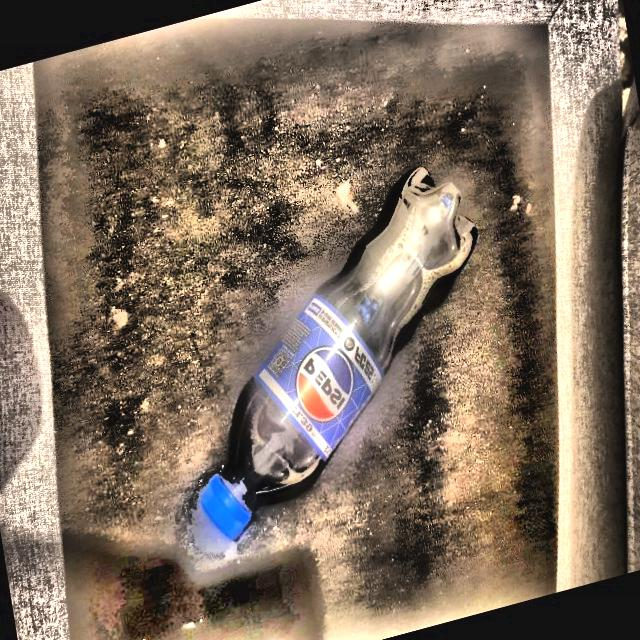pepsi-bottle: (196, 166, 478, 550)
